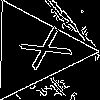X: (9, 25, 73, 77)
